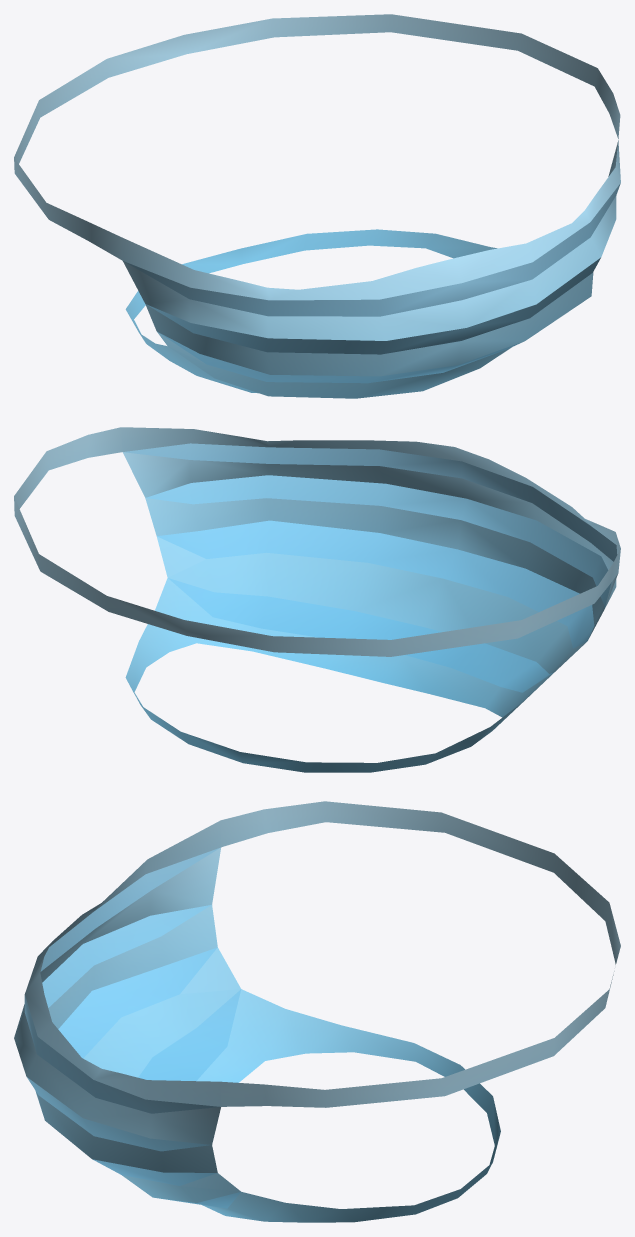
Rendered from Mask_01.glb.
3 views of the same model, one above another, from view 1: azimuth 30°, elevation 25°; view 2: azimuth 150°, elevation 25°; view 3: azimuth 270°, elevation 25° (orthographic). The views are drawn at different scales.
Visible parts, largest first — view 1: Mask_01; view 2: Mask_01; view 3: Mask_01.
Part boxes in pixels (x1,y1,x2,y2): Mask_01: (14, 14, 620, 398); Mask_01: (14, 427, 620, 772); Mask_01: (14, 801, 620, 1222).
Bounding box in the file's own units: 0.5801 × 0.2098 × 0.5157.
1 material, 1 textured.
